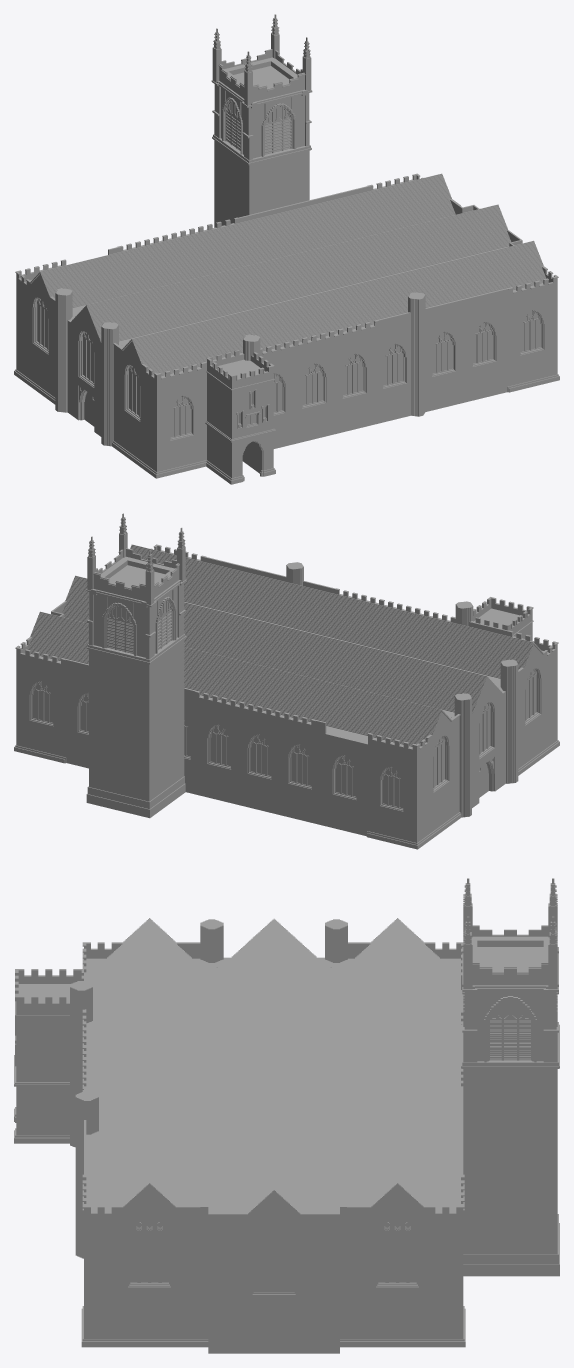
Rendered from church.glb.
3 renders of one model, top to bottom at view 1: azimuth 30°, elevation 25°; view 2: azimuth 150°, elevation 25°; view 3: azimuth 270°, elevation 25°, orthographic. The views are drawn at different scales.
Visible parts, largest first — view 1: Untitled.034, Untitled.019, Untitled.033, Untitled.008, Untitled.016, Untitled.018, Untitled.028, Untitled.003, Untitled.029, Untitled.030, Untitled.004, Untitled.021 (+19 smaller); view 2: Untitled.004, Untitled.016, Untitled.019, Untitled.006, Untitled.015, Untitled.014, Untitled.034, Untitled.013, Untitled.012, Untitled.002, Untitled.021, Untitled.018 (+17 smaller); view 3: Untitled.007, Untitled.008, Untitled.006, Untitled.004, Untitled.019, Untitled.018, Untitled.033, Untitled.001, Untitled.016, Untitled.034, Untitled.011, Untitled.014 (+21 smaller).
Boxes of the visible parts, x1,y1,x2,y2 form: Untitled.034: (111, 327, 206, 478); Untitled.019: (136, 246, 341, 333); Untitled.033: (205, 349, 275, 484); Untitled.008: (484, 240, 559, 392); Untitled.016: (14, 259, 105, 404); Untitled.018: (289, 219, 453, 296); Untitled.028: (394, 263, 467, 411); Untitled.003: (233, 37, 312, 162); Untitled.029: (314, 284, 378, 433); Untitled.030: (273, 294, 338, 443); Untitled.004: (212, 136, 311, 227); Untitled.021: (67, 293, 151, 436); Untitled.004: (86, 635, 186, 818); Untitled.016: (366, 698, 461, 849); Untitled.019: (231, 617, 437, 704); Untitled.006: (14, 611, 88, 763); Untitled.015: (275, 675, 349, 825); Untitled.014: (321, 686, 394, 836); Untitled.034: (468, 630, 559, 775); Untitled.013: (235, 665, 300, 813); Untitled.012: (195, 655, 259, 804); Untitled.002: (86, 536, 156, 661); Untitled.021: (422, 664, 505, 807); Untitled.018: (184, 602, 284, 667); Untitled.007: (208, 1150, 339, 1353); Untitled.008: (81, 1150, 215, 1347); Untitled.006: (331, 1150, 465, 1347); Untitled.004: (461, 1024, 559, 1276); Untitled.019: (208, 951, 339, 1113); Untitled.018: (208, 1053, 339, 1189); Untitled.033: (14, 969, 83, 1143); Untitled.001: (472, 962, 548, 1065); Untitled.016: (331, 918, 463, 989); Untitled.034: (82, 918, 215, 989); Untitled.011: (331, 1091, 463, 1162); Untitled.014: (331, 949, 463, 1020).
Bounding box in the file's own units: 56.1 × 33.9 × 46.9.
Materials: 35 (35 with a texture image).
